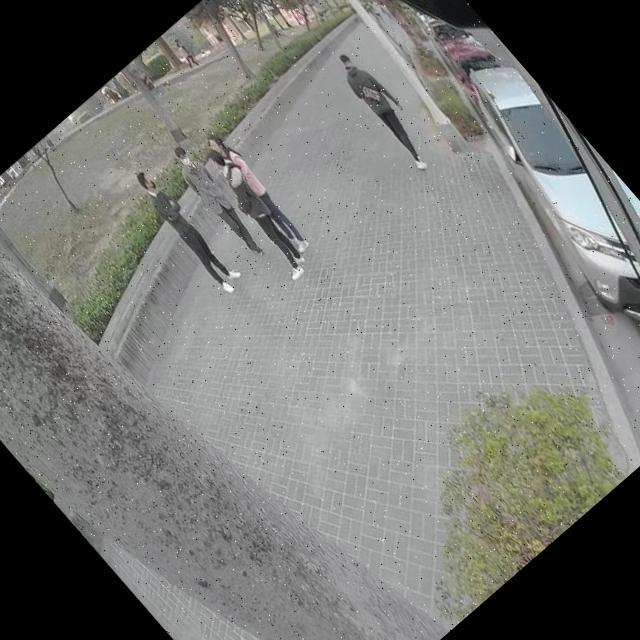person: (188, 139, 325, 288), (194, 121, 318, 259), (324, 43, 445, 176), (128, 166, 244, 294), (166, 144, 272, 261)
